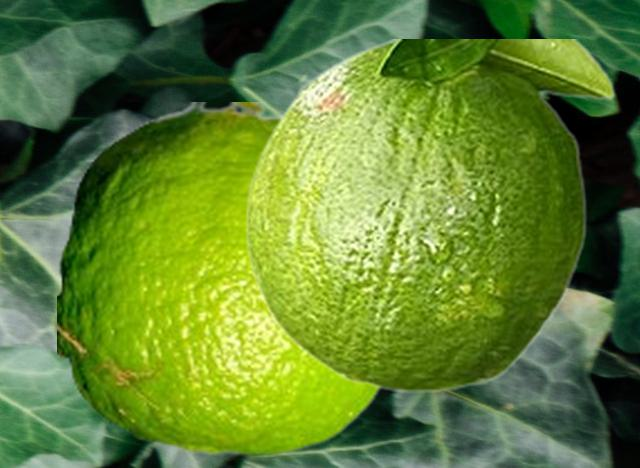dalandan: (244, 39, 615, 392), (57, 102, 384, 455)
